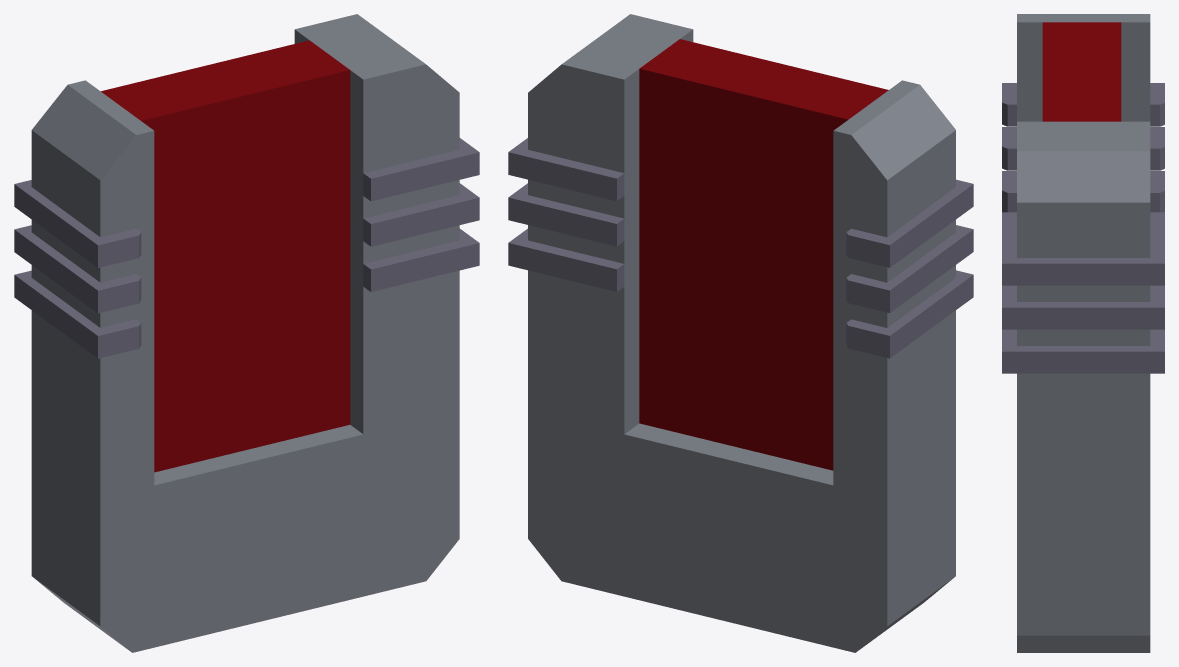
File: Cartridge.glb
3 views of the same model, side by side, from view 1: azimuth 30°, elevation 25°; view 2: azimuth 150°, elevation 25°; view 3: azimuth 270°, elevation 25° (orthographic). The views are drawn at different scales.
Parts seen in each view (by area): view 1: Cartridge; view 2: Cartridge; view 3: Cartridge.
Part boxes in pixels (x1,y1,x2,y2): Cartridge: [14, 14, 479, 652]; Cartridge: [508, 14, 973, 652]; Cartridge: [1002, 14, 1164, 652].
Size of the model in its own units: 1.03 by 1.33 by 0.3918.
1 material, 1 textured.
